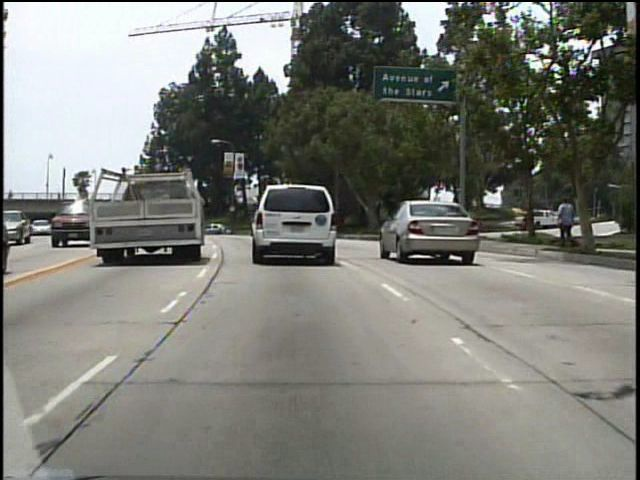person: (550, 191, 578, 254), (6, 186, 15, 205)
